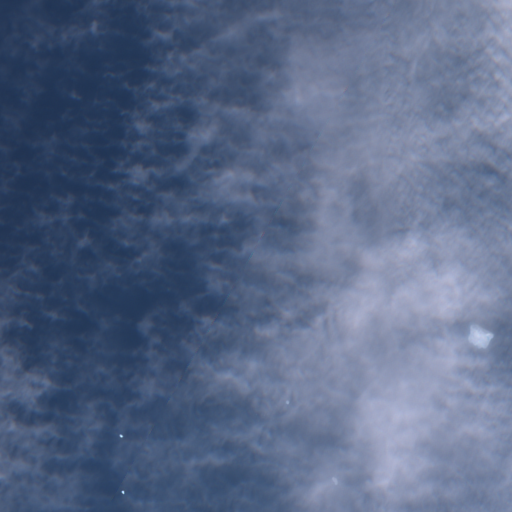Iceberg: (468, 324, 493, 347), (332, 477, 337, 484), (121, 490, 124, 494), (119, 434, 122, 437), (286, 401, 288, 403)
